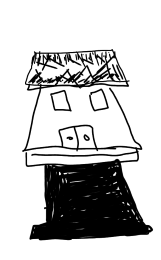door: (55, 124, 101, 153)
open_window: (49, 90, 75, 115), (86, 87, 110, 114)
roof: (16, 44, 134, 90)
shadow: (25, 160, 156, 245)
wall: (20, 83, 143, 159)
